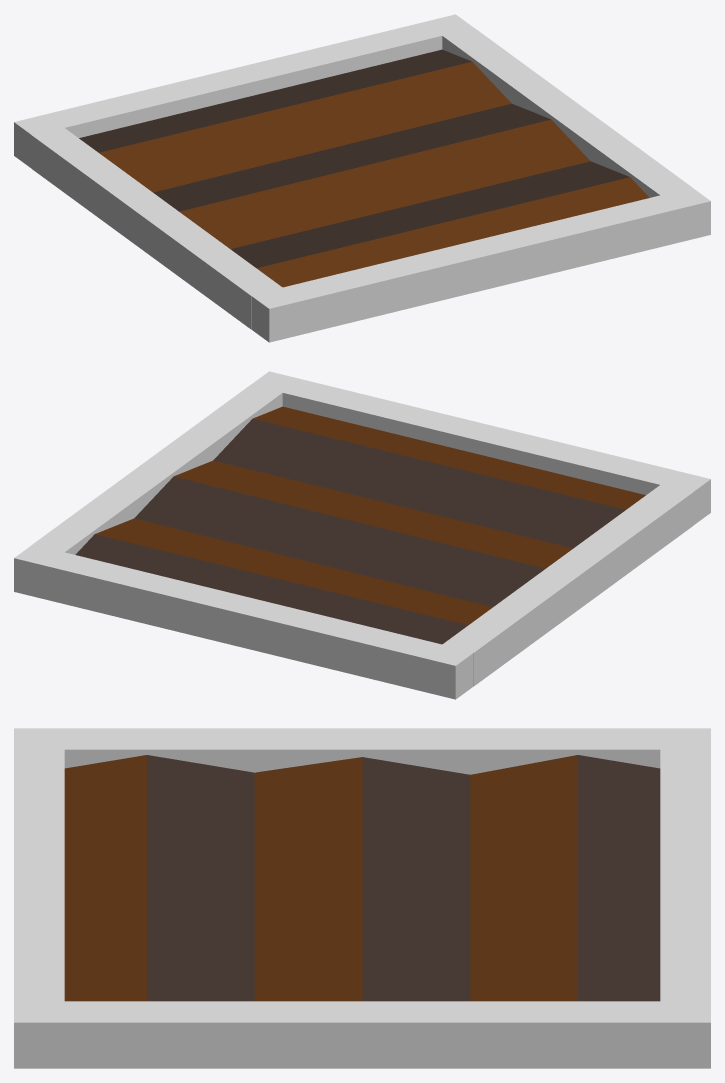
Rendered from FarmSingle.fbx.
The picture shows the model from 3 angles, top to bottom: view 1: azimuth 30°, elevation 25°; view 2: azimuth 150°, elevation 25°; view 3: azimuth 270°, elevation 25°; orthographic projection. The views are drawn at different scales.
Parts seen in each view (by area): view 1: Plane, Cube.003, Cube.001, Cube.002, Cube; view 2: Plane, Cube.002, Cube.001, Cube.003, Cube; view 3: Plane, Cube, Cube.001, Cube.002, Cube.003.
Boxes of the visible parts, box(x1,y1,x2,y2) form: Plane: box(79, 49, 649, 287); Cube.003: box(251, 187, 710, 342); Cube.001: box(32, 127, 282, 328); Cube.002: box(14, 14, 473, 168); Cube: box(442, 28, 692, 197); Plane: box(75, 406, 645, 644); Cube.002: box(14, 544, 473, 699); Cube.001: box(442, 484, 692, 685); Cube.003: box(251, 371, 710, 525); Cube: box(32, 385, 282, 554); Plane: box(64, 755, 660, 1001); Cube: box(64, 1001, 660, 1068); Cube.001: box(63, 728, 661, 774); Cube.002: box(660, 728, 710, 1068); Cube.003: box(14, 728, 64, 1068).
Size of the model in its own units: 108 by 7.86 by 108.
